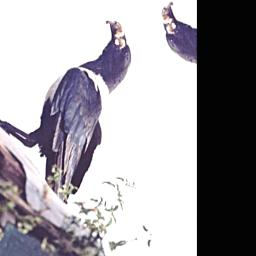Crow: (0, 15, 168, 226)
